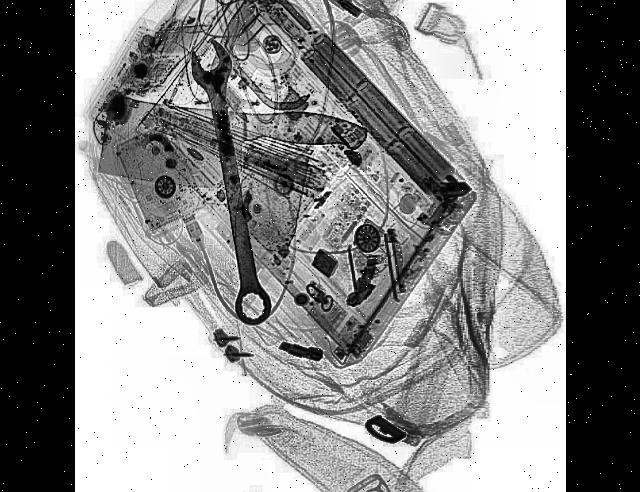Knife: (98, 81, 368, 212)
Wrench: (188, 33, 274, 332)
